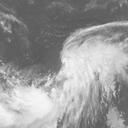cyclone: (59, 26, 118, 92)
